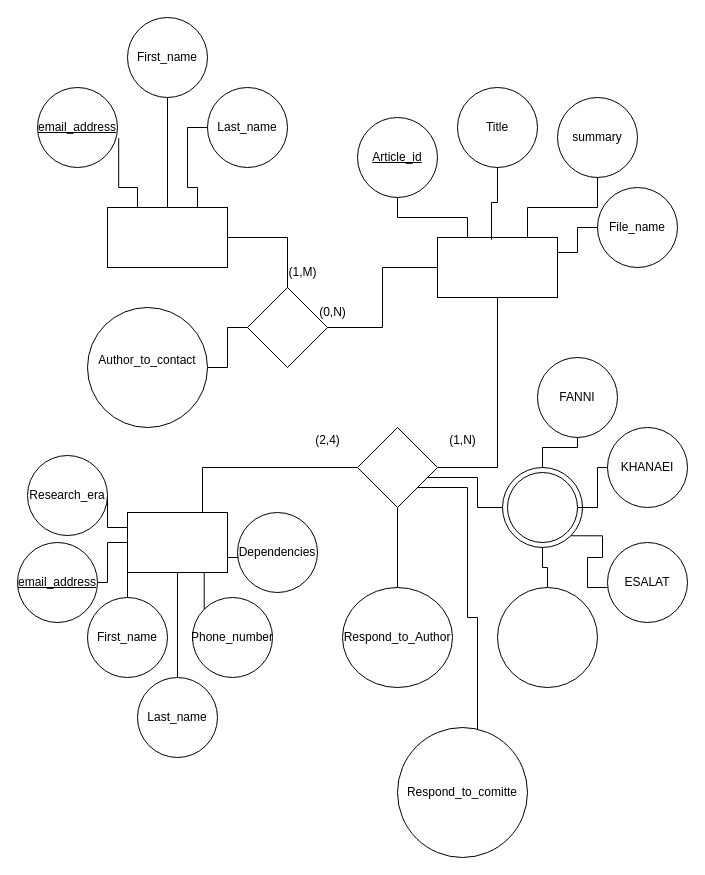
This 705x875 diagram has some shape labels left out. The centre of each missing label's shape, as x and y in pixels:
Articles: pixel 497 267
Authors: pixel 167 237
ERTEBAT BA CONFERENCE: pixel 547 637
Has: pixel 287 327
Referees: pixel 177 542
Refreeeing: pixel 397 467
scores: pixel 542 507
